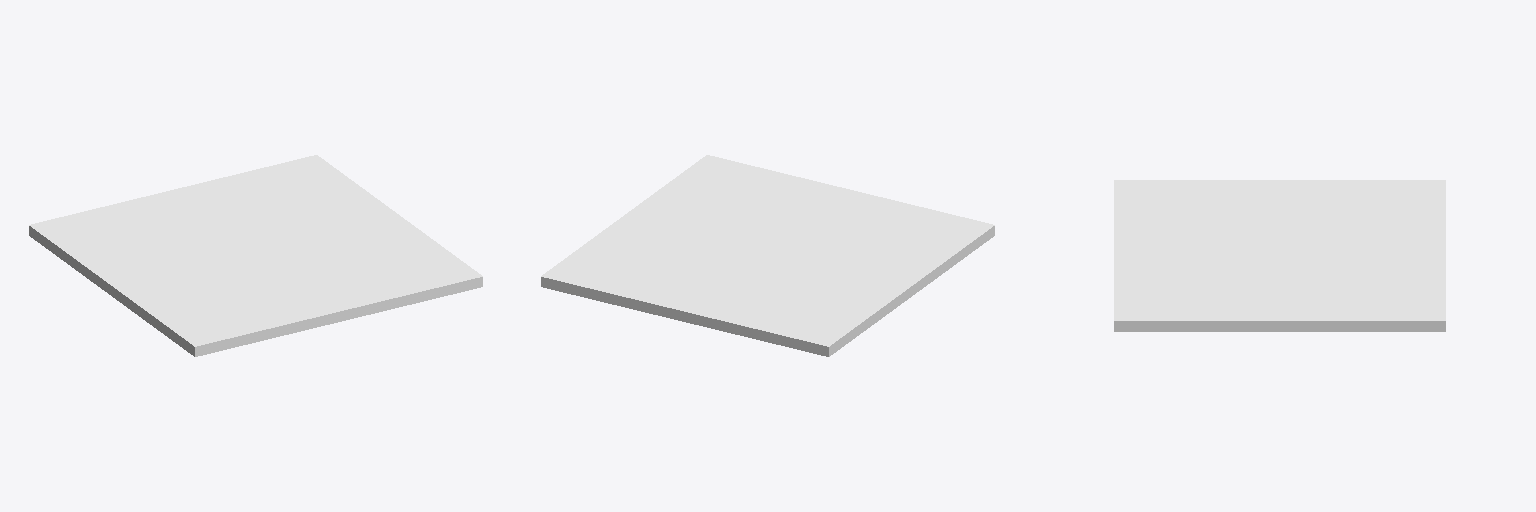
The model's file is GroundEmpty-0.obj.
The picture shows the model from 3 angles: view 1: azimuth 30°, elevation 25°; view 2: azimuth 150°, elevation 25°; view 3: azimuth 270°, elevation 25°; orthographic projection.
Parts seen in each view (by area): view 1: object 1; view 2: object 1; view 3: object 1.
Boxes of the visible parts, box(x1,y1,x2,y2) form: object 1: box(29, 155, 482, 356); object 1: box(541, 155, 994, 356); object 1: box(1114, 180, 1445, 331).
Size of the model in its own units: 2.9 by 0.1 by 2.9.